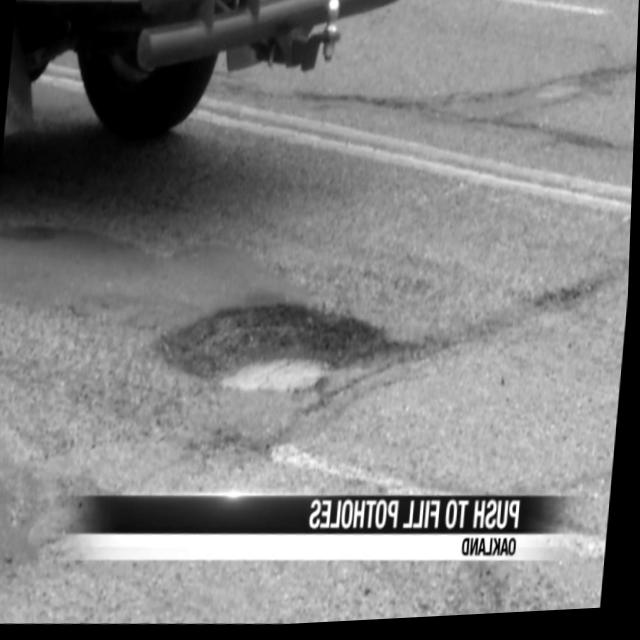pathole: (140, 285, 436, 455), (526, 256, 601, 339)
